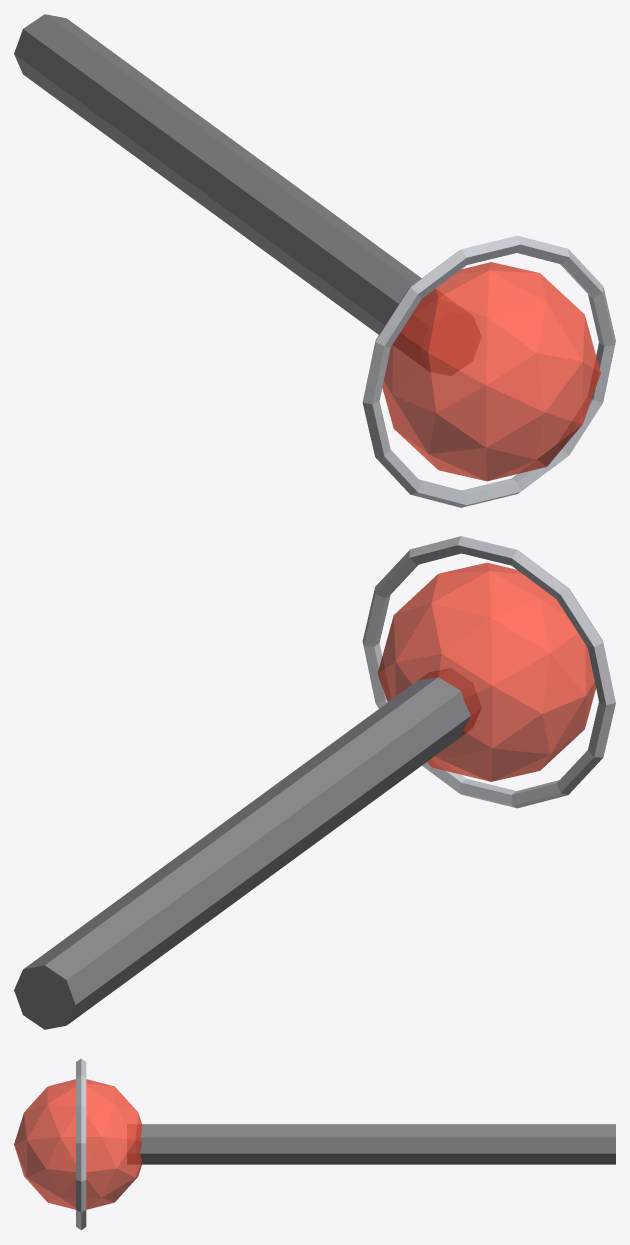
File: wall_torch.glb
3 views of the same model, one above another, from view 1: azimuth 30°, elevation 25°; view 2: azimuth 150°, elevation 25°; view 3: azimuth 270°, elevation 25° (orthographic). The views are drawn at different scales.
Visible parts, largest first — view 1: post, light_orb, lamp_cage; view 2: post, light_orb, lamp_cage; view 3: post, light_orb, lamp_cage.
Part boxes in pixels (left/top/right/bottom): post: left=14, top=14, right=481, bottom=375; light_orb: left=382, top=262, right=600, bottom=481; lamp_cage: left=362, top=235, right=615, bottom=507; post: left=14, top=668, right=481, bottom=1029; light_orb: left=377, top=562, right=595, bottom=781; lamp_cage: left=362, top=536, right=615, bottom=808; post: left=127, top=1124, right=615, bottom=1164; light_orb: left=14, top=1079, right=142, bottom=1209; lamp_cage: left=76, top=1058, right=86, bottom=1230.
Bounding box in the file's own units: 0.576 × 0.5616 × 1.97.
